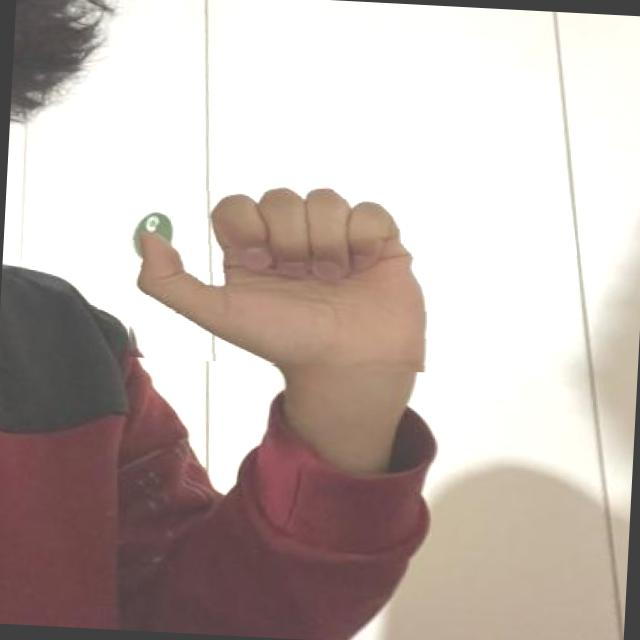E: (122, 172, 440, 373)
